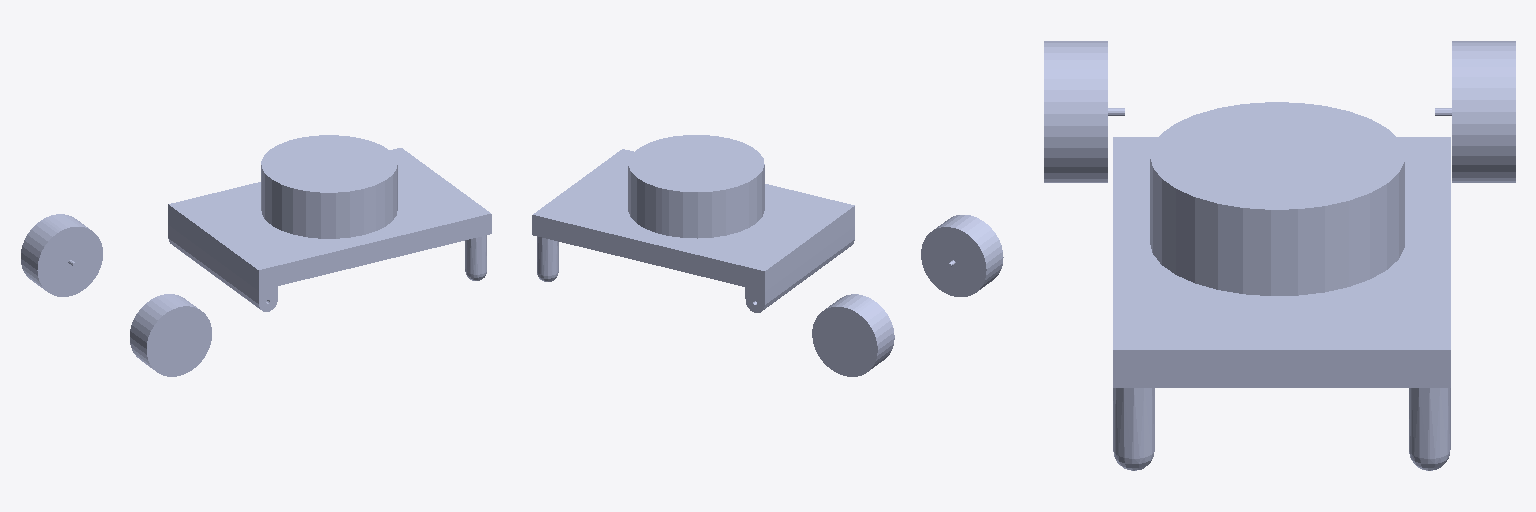
The robot description file, URDF, robot "diff_drive_bot_with_lidar":
<?xml version="1.0" encoding="utf-8"?>
<!-- This URDF was automatically created by SolidWorks to URDF Exporter! Originally created by [author] ([email redacted]) 
     Commit Version: 1.6.0-4-g7f85cfe  Build Version: 1.6.7995.38578
     For more information, please see http://wiki.ros.org/sw_urdf_exporter -->
<robot
  name="diff_drive_bot_with_lidar">
  <link
    name="base_link">
    <inertial>
      <origin
        xyz="-0.0053991 -0.0020273 0.00085493"
        rpy="0 0 0" />
      <mass
        value="2.7764" />
      <inertia
        ixx="0.0094878"
        ixy="6.6341E-06"
        ixz="-0.00024936"
        iyy="0.018479"
        iyz="7.2428E-05"
        izz="0.024302" />
    </inertial>
    <visual>
      <origin
        xyz="0 0 0"
        rpy="0 0 0" />
      <geometry>
        <mesh
          filename="package://diff_drive_bot_with_lidar/meshes/base_link.STL" />
      </geometry>
      <material
        name="">
        <color
          rgba="0.79216 0.81961 0.93333 1" />
      </material>
    </visual>
    <collision>
      <origin
        xyz="0 0 0"
        rpy="0 0 0" />
      <geometry>
        <mesh
          filename="package://diff_drive_bot_with_lidar/meshes/base_link.STL" />
      </geometry>
    </collision>
  </link>
  <link
    name="left_link">
    <inertial>
      <origin
        xyz="0 -0.019022 0"
        rpy="0 0 0" />
      <mass
        value="0.21583" />
      <inertia
        ixx="0.00012343"
        ixy="7.8345E-22"
        ixz="2.7387E-21"
        iyy="0.00019474"
        iyz="-2.2027E-21"
        izz="0.00012343" />
    </inertial>
    <visual>
      <origin
        xyz="0 0 0"
        rpy="0 0 0" />
      <geometry>
        <mesh
          filename="package://diff_drive_bot_with_lidar/meshes/left_link.STL" />
      </geometry>
      <material
        name="">
        <color
          rgba="0.79216 0.81961 0.93333 1" />
      </material>
    </visual>
    <collision>
      <origin
        xyz="0 0 0"
        rpy="0 0 0" />
      <geometry>
        <mesh
          filename="package://diff_drive_bot_with_lidar/meshes/left_link.STL" />
      </geometry>
    </collision>
  </link>
  <joint
    name="left_wheel"
    type="continuous">
    <origin
      xyz="-0.13867 0.13992 -0.042"
      rpy="0 0 0" />
    <parent
      link="base_link" />
    <child
      link="left_link" />
    <axis
      xyz="0 -1 0" />
    <limit
      effort="1"
      velocity="10" />
  </joint>
  <link
    name="right_link">
    <inertial>
      <origin
        xyz="-2.7756E-17 0.019022 6.245E-17"
        rpy="0 0 0" />
      <mass
        value="0.21583" />
      <inertia
        ixx="0.00012343"
        ixy="1.0379E-19"
        ixz="6.8567E-21"
        iyy="0.00019474"
        iyz="2.451E-21"
        izz="0.00012343" />
    </inertial>
    <visual>
      <origin
        xyz="0 0 0"
        rpy="0 0 0" />
      <geometry>
        <mesh
          filename="package://diff_drive_bot_with_lidar/meshes/right_link.STL" />
      </geometry>
      <material
        name="">
        <color
          rgba="0.79216 0.81961 0.93333 1" />
      </material>
    </visual>
    <collision>
      <origin
        xyz="0 0 0"
        rpy="0 0 0" />
      <geometry>
        <mesh
          filename="package://diff_drive_bot_with_lidar/meshes/right_link.STL" />
      </geometry>
    </collision>
  </link>
  <joint
    name="right_wheel"
    type="continuous">
    <origin
      xyz="-0.13867 -0.14208 -0.042"
      rpy="0 0 0" />
    <parent
      link="base_link" />
    <child
      link="right_link" />
    <axis
      xyz="0 -1 0" />
    <limit
      effort="1"
      velocity="10" />
  </joint>
</robot>

--- Render facts (derived) ---
The picture shows the robot from 3 angles, left to right: view 1: azimuth 30°, elevation 25°; view 2: azimuth 150°, elevation 25°; view 3: azimuth 270°, elevation 25°; orthographic projection.
Robot: diff_drive_bot_with_lidar — 3 links, 2 joints (2 continuous); root link base_link; default pose: every joint at zero.
Links seen in each view (by area): view 1: base_link, left_link, right_link; view 2: base_link, left_link, right_link; view 3: base_link, left_link, right_link.
Link boxes in pixels (x1,y1,x2,y2): base_link: [168, 135, 491, 311]; left_link: [21, 214, 102, 296]; right_link: [130, 294, 211, 376]; base_link: [532, 135, 854, 312]; left_link: [812, 294, 894, 376]; right_link: [921, 215, 1003, 296]; base_link: [1113, 102, 1450, 470]; left_link: [1435, 41, 1515, 182]; right_link: [1044, 41, 1124, 182].
Bounding box of the posed robot: 0.4695 × 0.282 × 0.1415 m (x, y, z).
3 mesh visuals loaded from 3 distinct referenced files (3 binary STL).